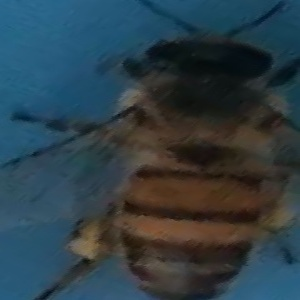bee: (65, 7, 298, 300)
